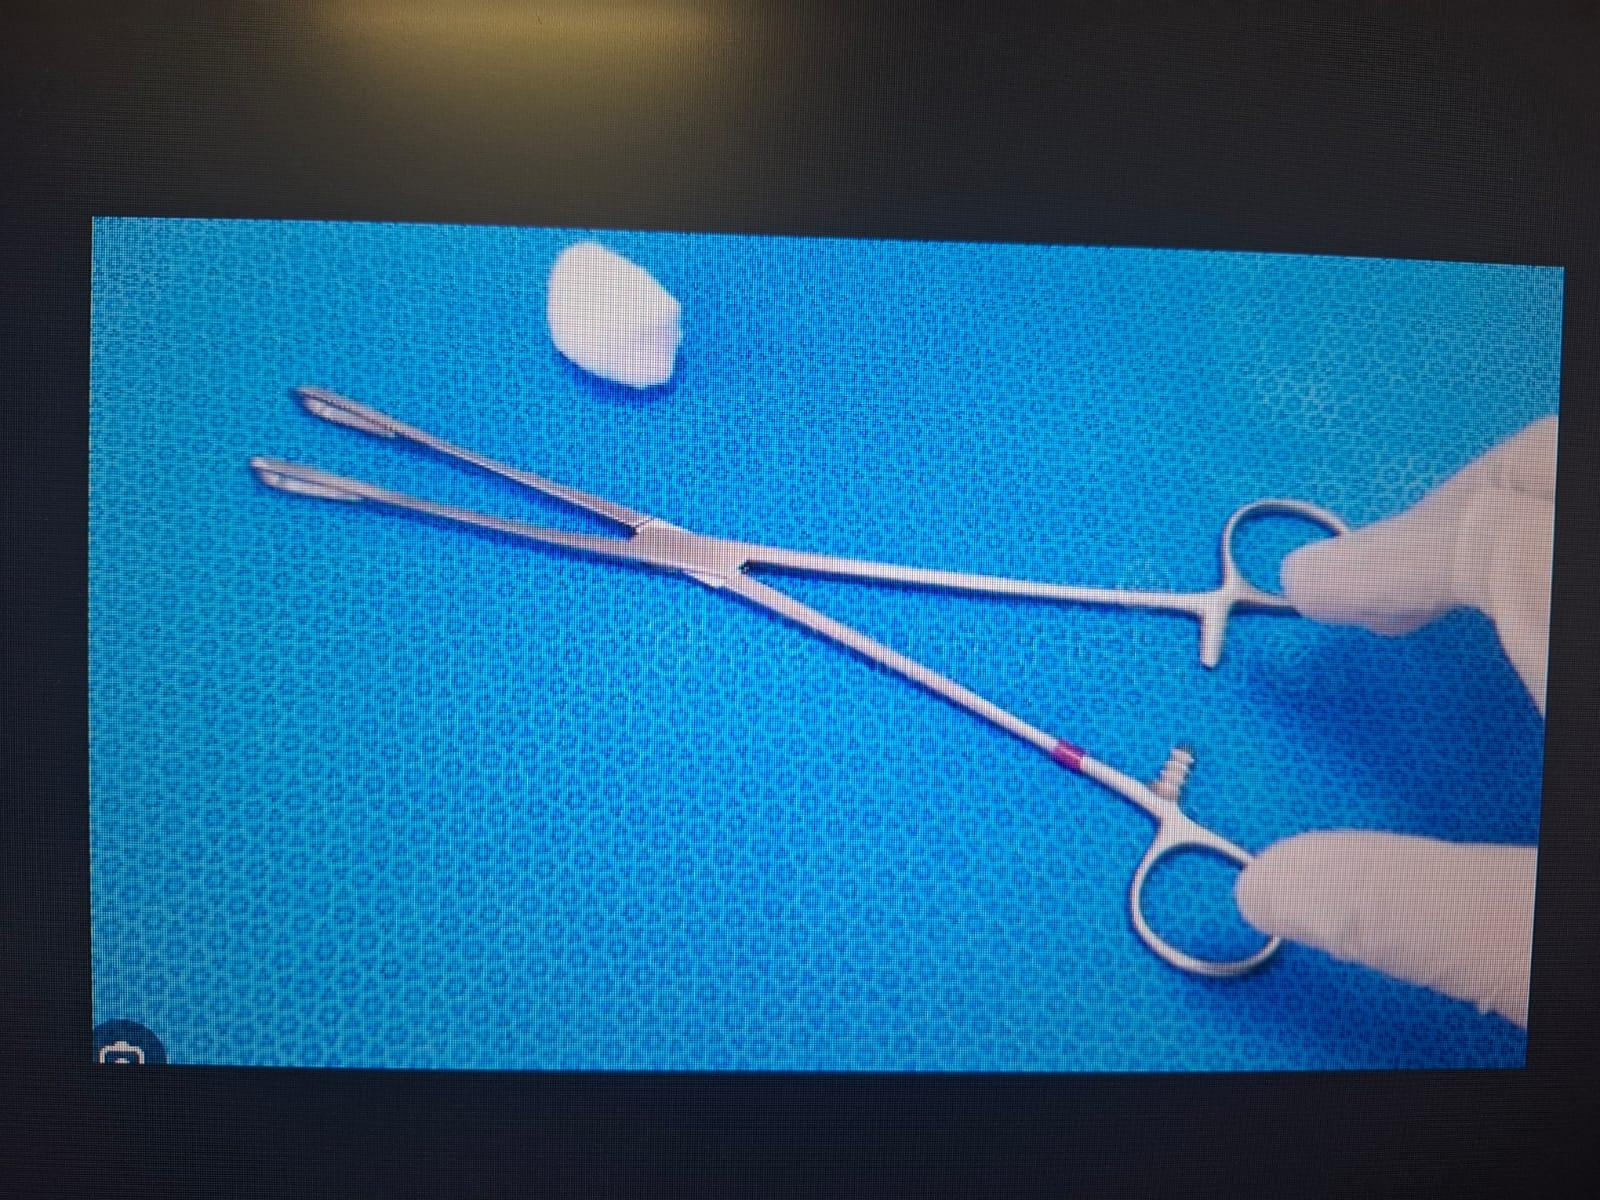Sponge Holding Forceps: (248, 374, 1388, 1006)
